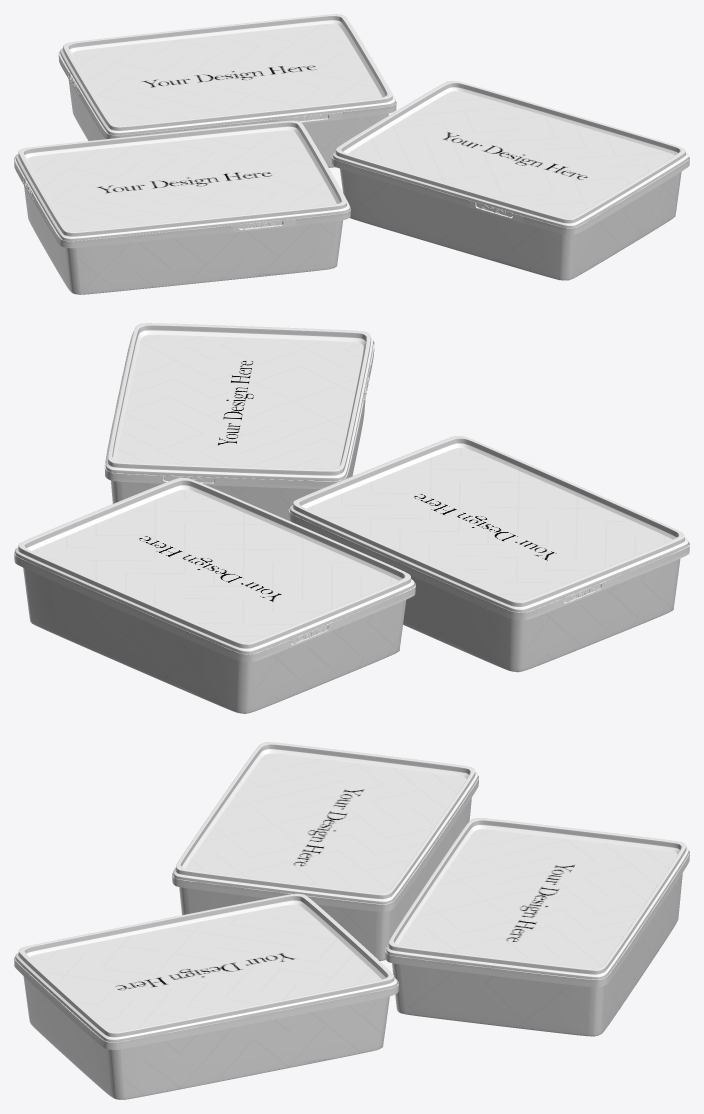
The model's file is TE Angle-6 .glb.
The picture shows the model from 3 angles, top to bottom: view 1: azimuth 30°, elevation 25°; view 2: azimuth 150°, elevation 25°; view 3: azimuth 270°, elevation 25°; orthographic projection. The views are drawn at different scales.
Parts seen in each view (by area): view 1: wrapper.003, wrapper.002, wrapper.001, lid.003, lid.001, lid.002, Plane.048, Plane.067, Plane.024, Bottom.002, Bottom.003; view 2: wrapper.001, wrapper.002, wrapper.003, lid.001, lid.002, lid.003, Plane.024, Plane.067, Plane.048, Bottom.001, Bottom.002; view 3: wrapper.003, wrapper.001, wrapper.002, lid.003, lid.002, lid.001, Plane.048, Plane.024, Plane.067, Bottom.001, Bottom.003, Bottom.002.
Part boxes in pixels (x1,y1,x2,y2): wrapper.003: (342,91,679,280); wrapper.002: (24,130,337,294); wrapper.001: (68,23,382,167); lid.003: (332,81,688,227); lid.001: (60,14,395,135); lid.002: (15,120,349,241); Plane.048: (331,154,689,235); Plane.067: (14,156,350,248); Plane.024: (58,51,396,139); Bottom.002: (65,220,342,294); Bottom.003: (340,168,681,280); wrapper.001: (24,489,402,713); wrapper.002: (306,447,676,672); wrapper.003: (111,334,365,521); lid.001: (15,477,414,654); lid.002: (289,436,688,612); lid.003: (106,323,373,480); Plane.024: (14,551,415,662); Plane.067: (288,508,689,620); Plane.048: (104,334,374,488); Bottom.001: (23,567,406,713); Bottom.002: (509,559,680,671); wrapper.003: (24,904,385,1099); wrapper.001: (392,829,682,1036); wrapper.002: (179,753,471,960); lid.003: (15,893,397,1042); lid.002: (173,742,477,904); lid.001: (386,818,688,979); Plane.048: (14,956,398,1049); Plane.024: (385,851,689,987); Plane.067: (172,775,478,911); Bottom.001: (392,963,603,1036); Bottom.003: (23,976,389,1099); Bottom.002: (179,887,390,960).
Size of the model in its own units: 0.3905 by 0.0438 by 0.3781.
3 materials, 1 textured.
